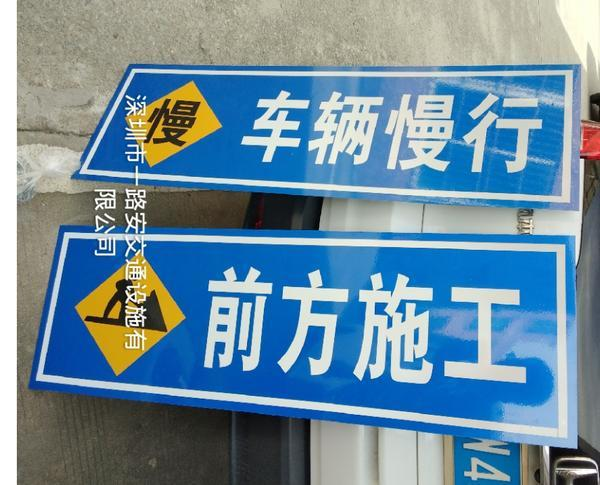sign: (58, 232, 562, 427), (108, 65, 567, 183)
